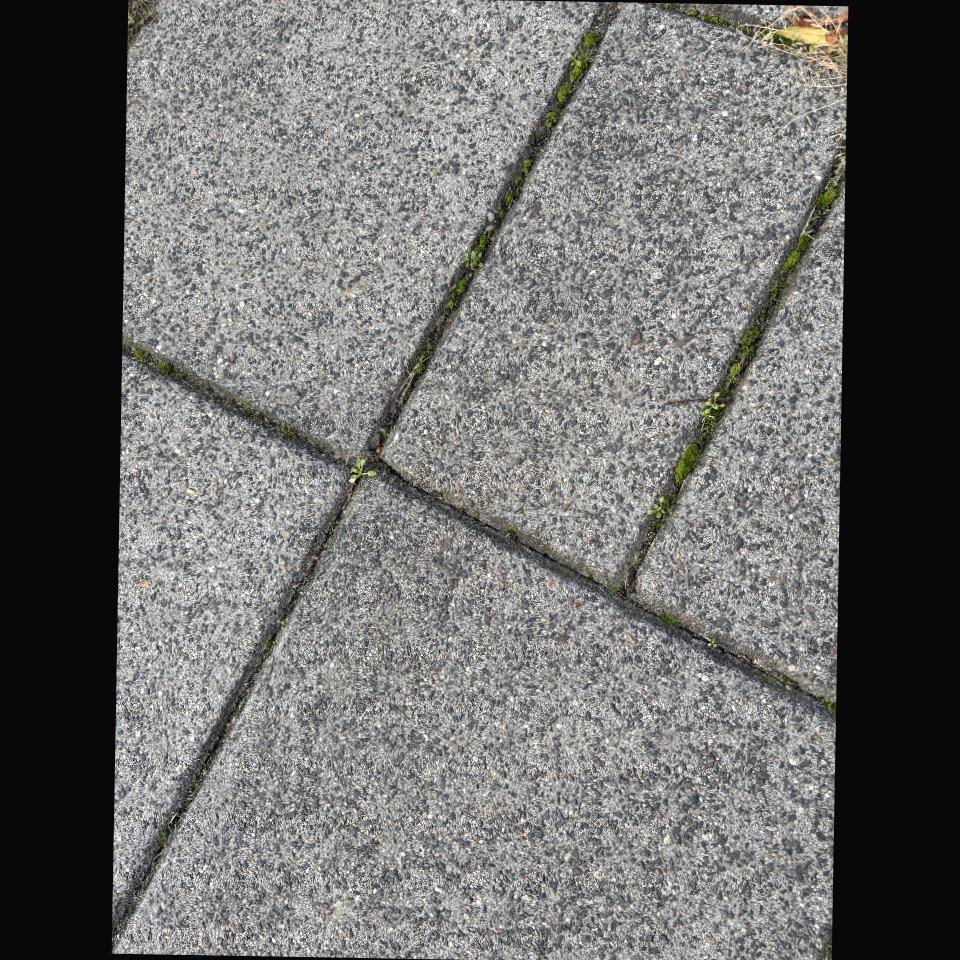weed: (701, 392, 725, 422), (350, 459, 377, 484), (647, 496, 668, 521), (463, 251, 483, 271)
